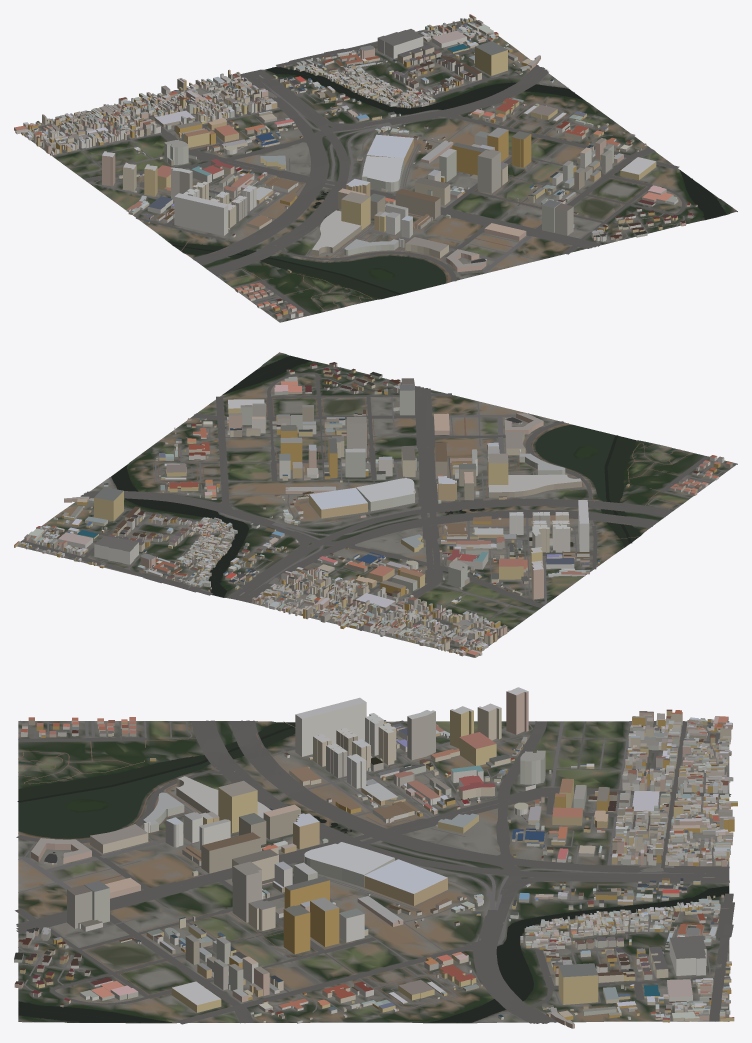
The picture shows the model from 3 angles, top to bottom: view 1: azimuth 30°, elevation 25°; view 2: azimuth 150°, elevation 25°; view 3: azimuth 270°, elevation 25°; orthographic projection. The views are drawn at different scales.
Visible parts, largest first — view 1: buildings, ground, roads, water; view 2: buildings, ground, roads, water; view 3: buildings, ground, roads, water.
Boxes of the visible parts, bbox=[...] form: buildings: bbox=[14, 14, 697, 319]; ground: bbox=[24, 20, 737, 322]; roads: bbox=[31, 20, 736, 322]; water: bbox=[168, 66, 726, 307]; buildings: bbox=[14, 362, 732, 657]; ground: bbox=[17, 352, 737, 657]; roads: bbox=[20, 353, 737, 655]; water: bbox=[111, 355, 675, 597]; buildings: bbox=[14, 687, 737, 1028]; ground: bbox=[18, 721, 729, 1023]; roads: bbox=[15, 720, 734, 1024]; water: bbox=[17, 722, 728, 1023].
Bounding box in the file's own units: 1440 × 107 × 1426.
